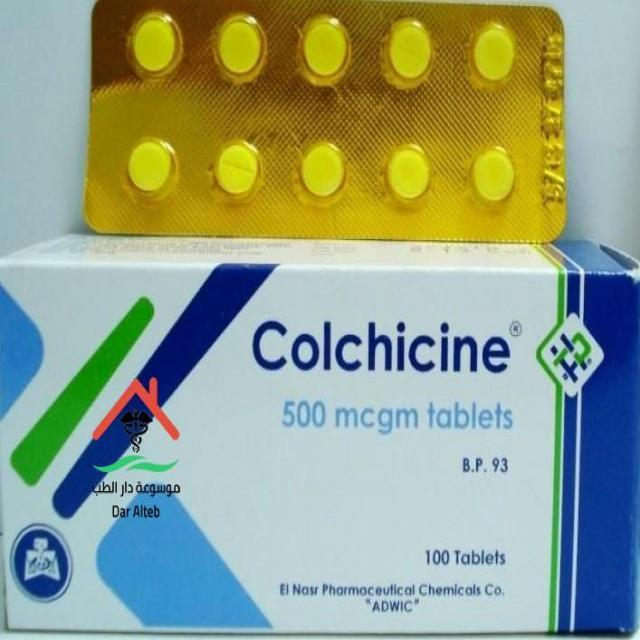drug-name: (250, 314, 518, 378)
